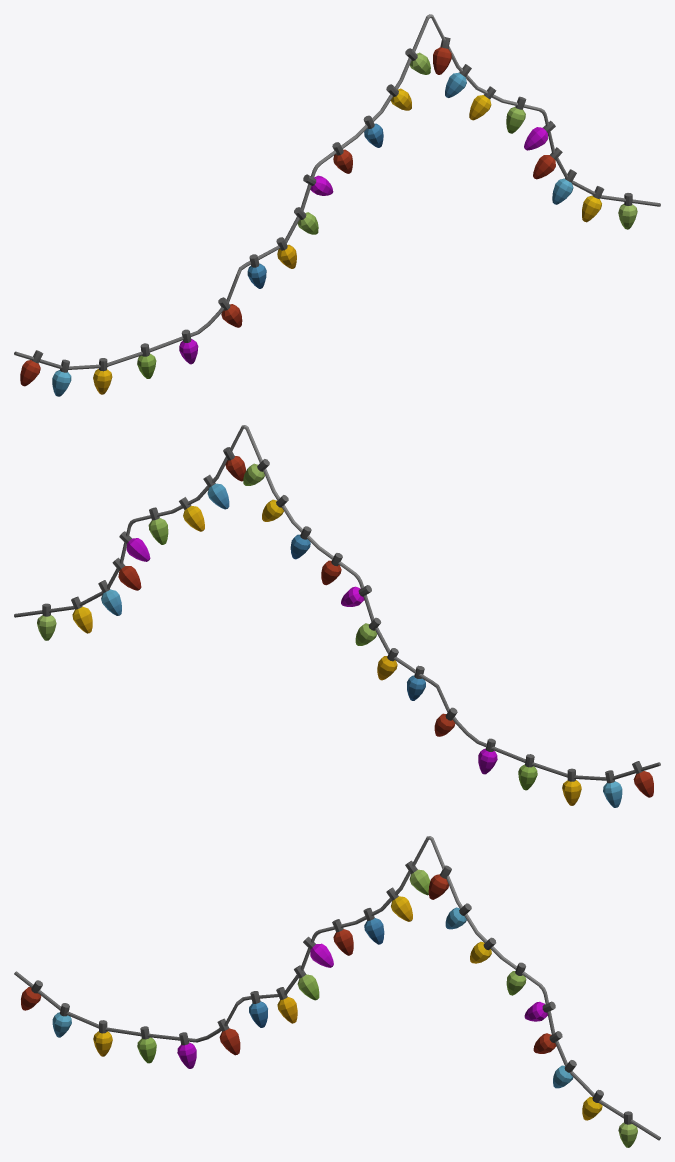
File: garland 2.fbx
The picture shows the model from 3 angles, top to bottom: view 1: azimuth 30°, elevation 25°; view 2: azimuth 150°, elevation 25°; view 3: azimuth 330°, elevation 25°; orthographic projection.
Visible parts, largest first — view 1: garland 2; view 2: garland 2; view 3: garland 2.
Part boxes in pixels (x1,y1,x2,y2): garland 2: (14, 14, 660, 396); garland 2: (14, 425, 660, 807); garland 2: (14, 836, 660, 1147).
Size of the model in its own units: 692 by 308 by 20.91.
